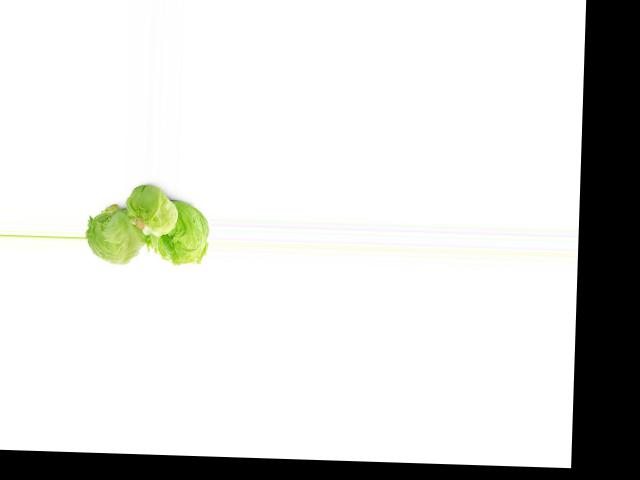lettuce: (153, 204, 206, 262)
